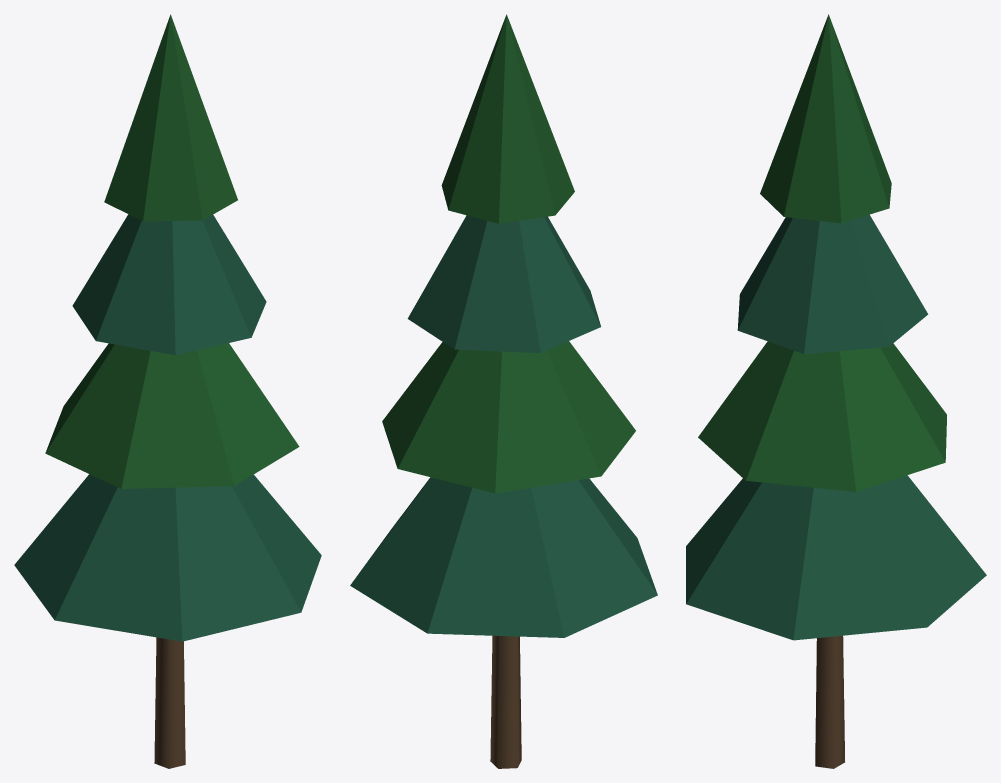
The model's file is pohon_pinus.glb.
3 views of the same model, side by side, from view 1: azimuth 30°, elevation 25°; view 2: azimuth 150°, elevation 25°; view 3: azimuth 270°, elevation 25° (orthographic).
Parts seen in each view (by area): view 1: body; view 2: body; view 3: body.
Boxes of the visible parts, x1,y1,x2,y2 form: body: (14, 14, 321, 768); body: (350, 14, 657, 768); body: (686, 14, 986, 768).
Size of the model in its own units: 4.48 by 12 by 4.37.
Materials: 1 (1 with a texture image).
